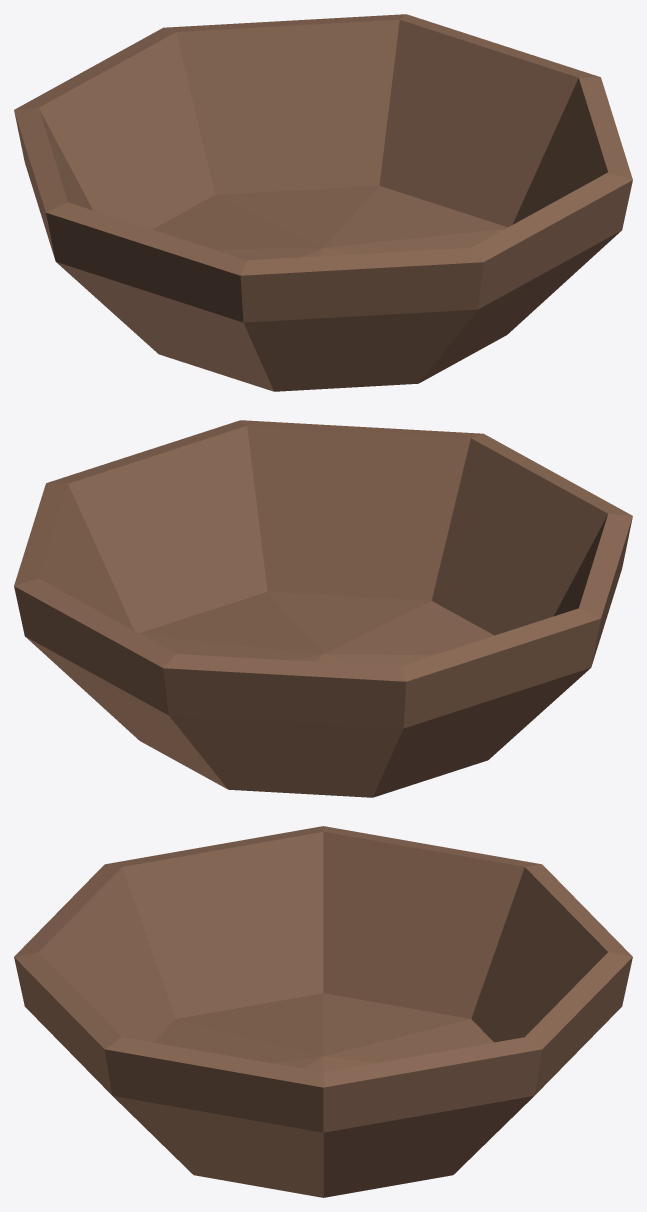
File: Bowl_2.fbx
3 renders of one model, top to bottom at view 1: azimuth 30°, elevation 25°; view 2: azimuth 150°, elevation 25°; view 3: azimuth 270°, elevation 25°, orthographic. The views are drawn at different scales.
Parts seen in each view (by area): view 1: polySurface1495; view 2: polySurface1495; view 3: polySurface1495.
Boxes of the visible parts, x1=… form: polySurface1495: x1=14, y1=14, x2=632, y2=391; polySurface1495: x1=14, y1=420, x2=632, y2=797; polySurface1495: x1=14, y1=826, x2=632, y2=1197.
Bounding box in the file's own units: 37.94 × 11.38 × 37.94.
